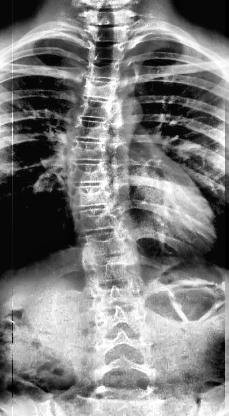Vertebrae: (96, 356, 160, 382), (91, 306, 156, 330), (95, 334, 155, 358), (88, 284, 150, 304), (82, 235, 128, 259), (84, 262, 134, 284), (76, 208, 119, 232), (69, 141, 109, 161), (72, 190, 112, 210), (90, 46, 130, 64), (73, 166, 109, 186), (89, 64, 125, 82), (92, 27, 132, 43), (80, 102, 114, 120), (83, 84, 121, 100), (76, 120, 108, 138)
